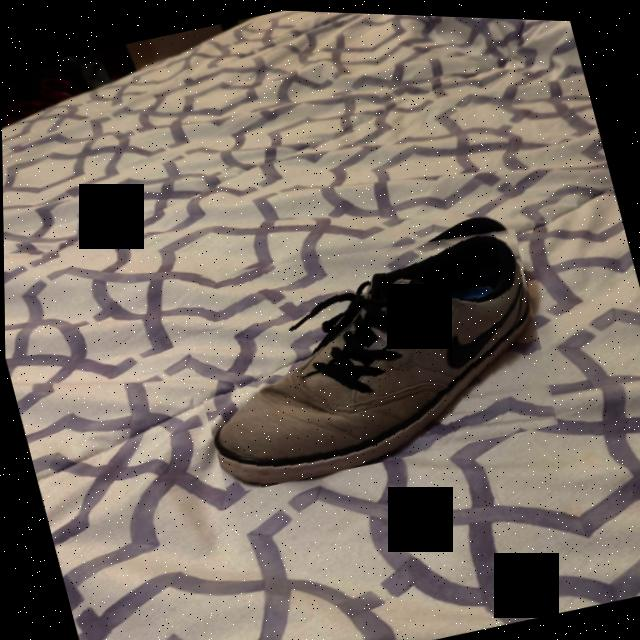shoe: (170, 194, 564, 502)
